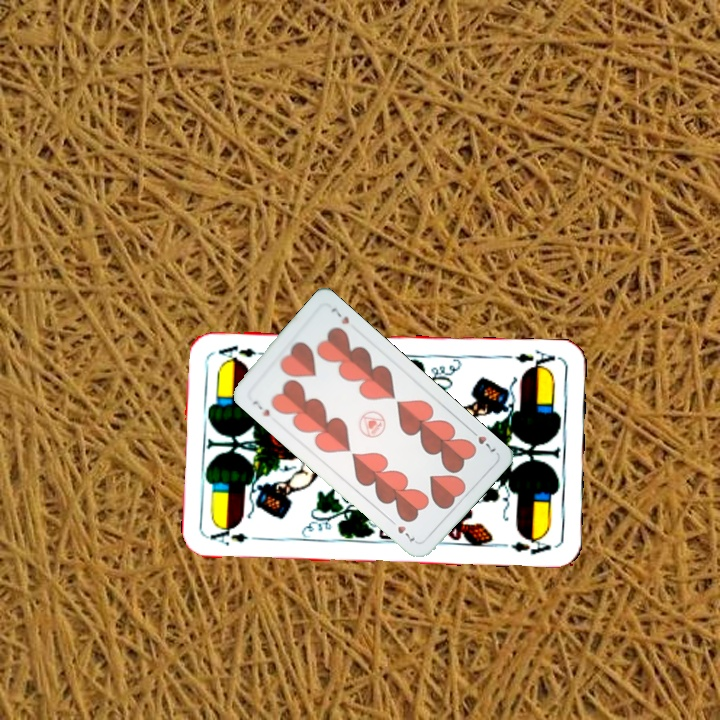EA: (511, 347, 560, 373), (206, 523, 250, 548)
H7: (466, 425, 498, 455), (248, 397, 273, 419)
